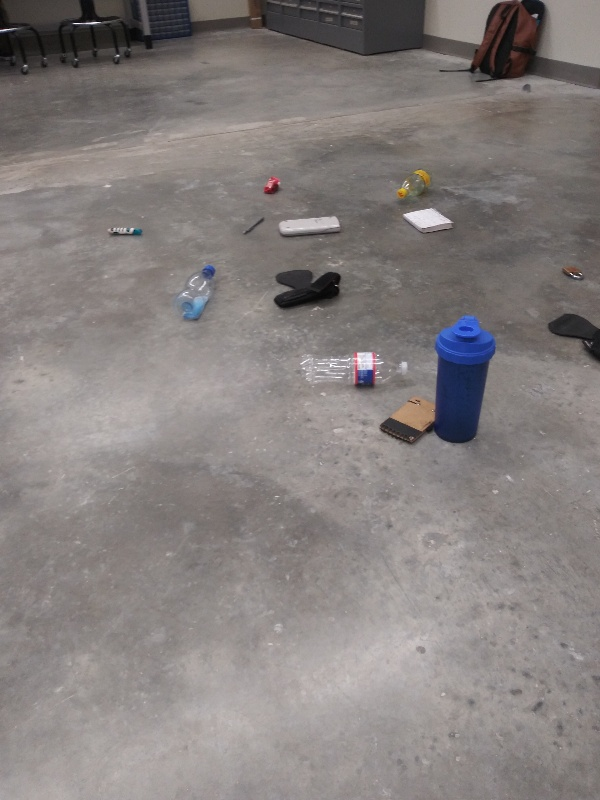bottle: (293, 347, 415, 391), (175, 262, 221, 323), (392, 162, 433, 206)
